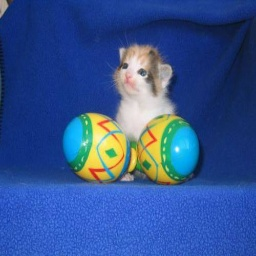cat: (110, 42, 179, 178)
